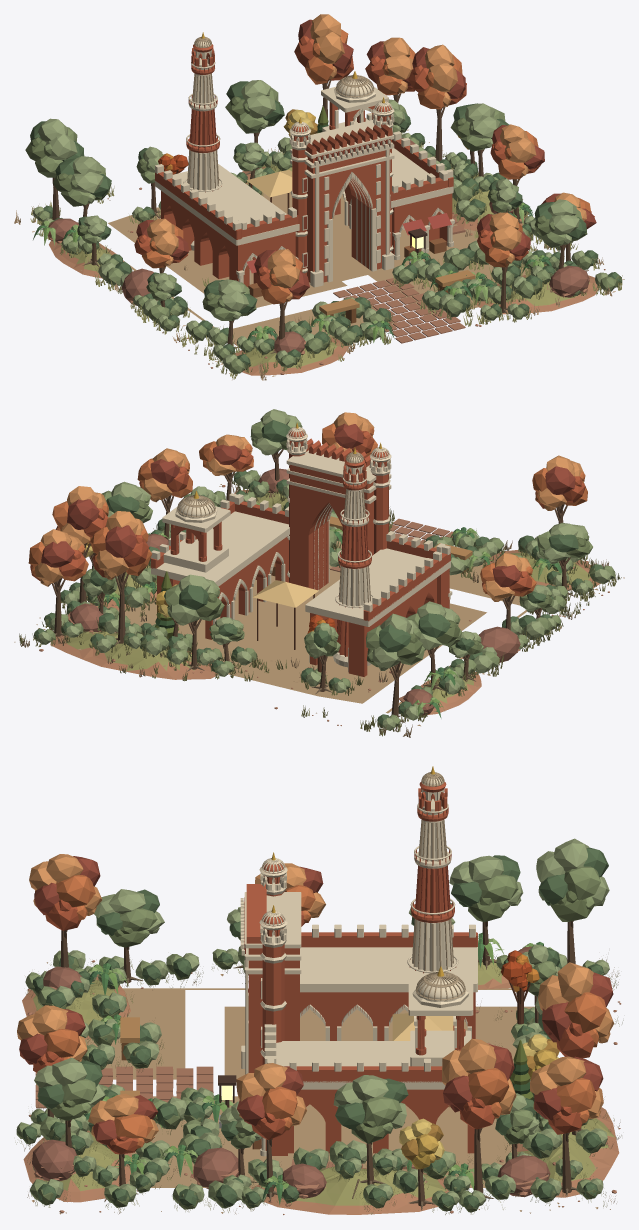
The model's file is delhi.glb.
The picture shows the model from 3 angles, top to bottom: view 1: azimuth 30°, elevation 25°; view 2: azimuth 150°, elevation 25°; view 3: azimuth 270°, elevation 25°; orthographic projection. The views are drawn at different scales.
Visible parts, largest first — view 1: delhi; view 2: delhi; view 3: delhi.
Boxes of the visible parts, <box> form: delhi: <box>14,14,624,380</box>; delhi: <box>14,409,624,737</box>; delhi: <box>15,766,623,1214</box>.
Bounding box in the file's own units: 7.8 × 3.91 × 7.75.
